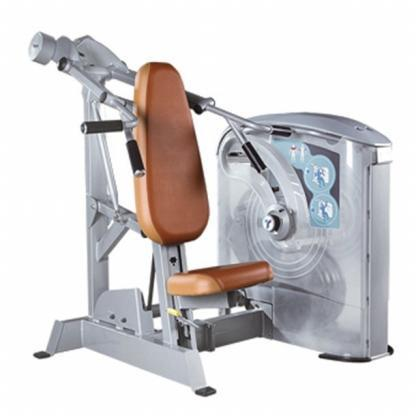shoulder press machine: (26, 27, 398, 397)
